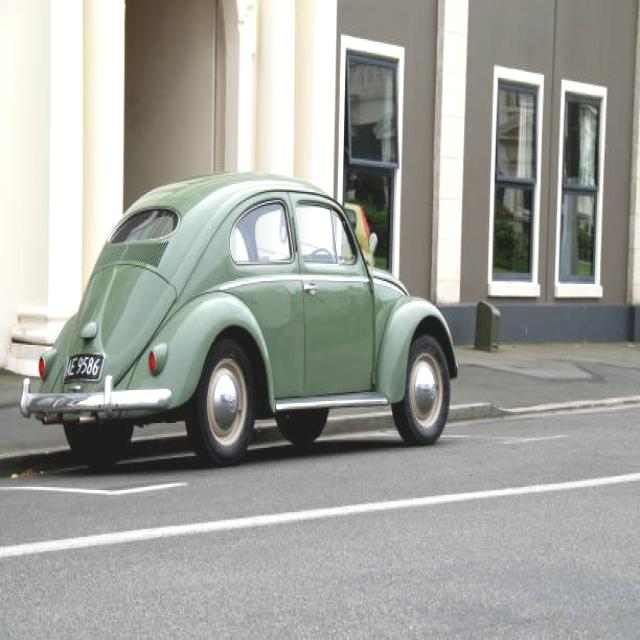car: (16, 182, 458, 442)
